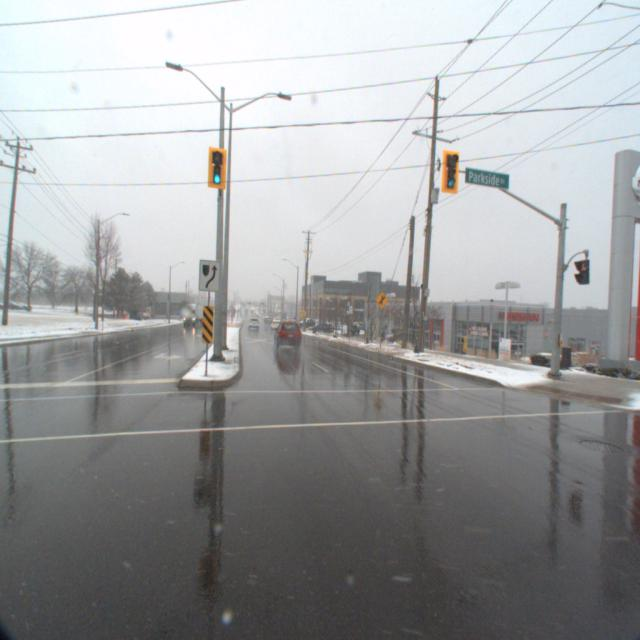Car: (271, 319, 303, 353)
Truck: (179, 302, 203, 332)
